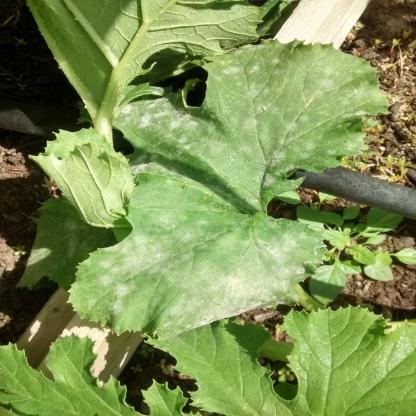squash powdery mildew leaf: (56, 161, 335, 345), (113, 42, 399, 209)
